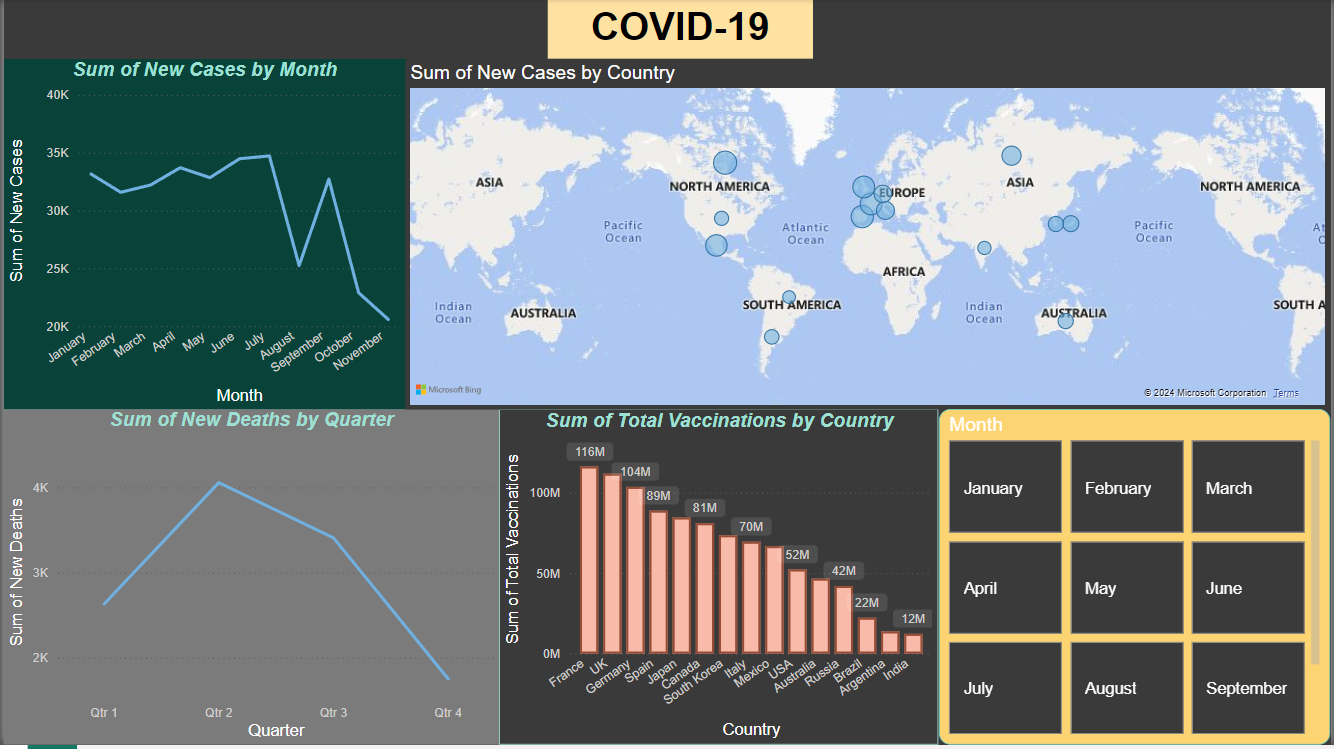

The page's visual inventory and layout, read from the dashboard file:
{"tool":"powerbi","page":{"name":"Page 1","canvas":[1280,720],"ordinal":0},"visuals":[{"type":"textbox","box":[524.8,0,255.8,57.9],"z":0},{"type":"lineChart","fields":{"Category":["Covid Analysis.Date.Variation.Date Hierarchy.Month"],"Y":["Sum(Covid Analysis.New Cases)"]},"box":[0,57.5,387.6,338.7],"z":1},{"type":"lineChart","fields":{"Category":["Covid Analysis.Date.Variation.Date Hierarchy.Quarter","Covid Analysis.Date.Variation.Date Hierarchy.Month"],"Y":["Sum(Covid Analysis.New Deaths)"]},"box":[0,396.2,478.1,324.1],"z":2},{"type":"clusteredColumnChart","fields":{"Category":["Covid Analysis.Country"],"Y":["Sum(Covid Analysis.Total Vaccinations)"]},"box":[478.1,396.2,424.3,324.1],"z":3},{"type":"map","fields":{"Category":["Covid Analysis.Country"],"Size":["Sum(Covid Analysis.New Cases)"]},"box":[387.6,59.9,892.7,336.3],"z":4},{"type":"advancedSlicerVisual","fields":{"Values":["Covid Analysis.Date.Variation.Date Hierarchy.Month"]},"box":[902.5,396.2,377.9,324.1],"z":5}]}

Visuals, with their boxes in screenshot pixels (x1, y1, x2, y2), scaled from the page's 1280x720 canvas onto the 1334x749 screenshot:
textbox: 547:0:814:60
lineChart - Covid Analysis.Date.Variation.Date Hierarchy.Month x Sum(Covid Analysis.New Cases): 0:60:404:412
lineChart - Covid Analysis.Date.Variation.Date Hierarchy.Quarter x Covid Analysis.Date.Variation.Date Hierarchy.Month: 0:412:498:748
clusteredColumnChart - Covid Analysis.Country x Sum(Covid Analysis.Total Vaccinations): 498:412:940:748
map - Covid Analysis.Country x Sum(Covid Analysis.New Cases): 404:62:1333:412
advancedSlicerVisual - Covid Analysis.Date.Variation.Date Hierarchy.Month: 941:412:1333:748
